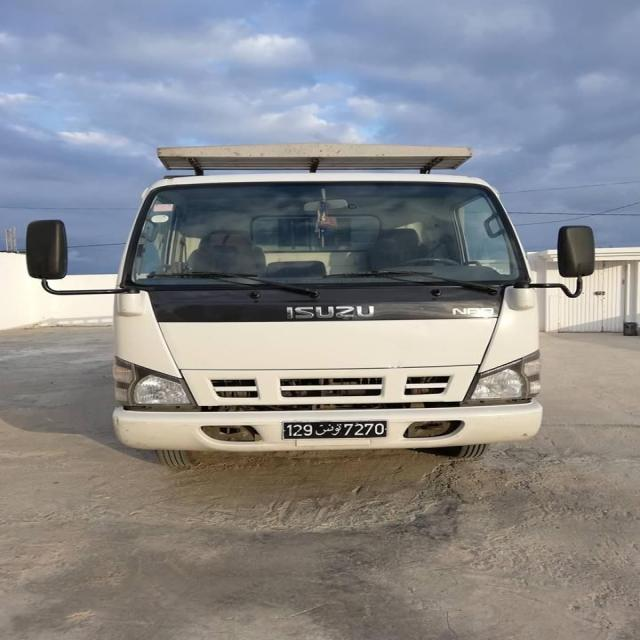LP: (281, 420, 388, 439)
